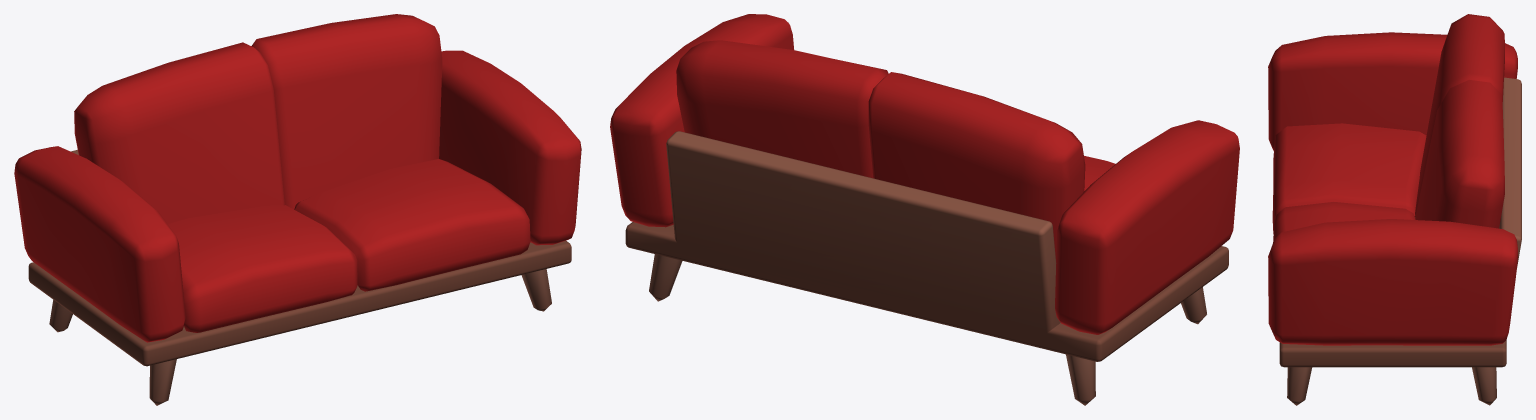
File: couch_05.glb
The picture shows the model from 3 angles, left to right: view 1: azimuth 30°, elevation 25°; view 2: azimuth 150°, elevation 25°; view 3: azimuth 270°, elevation 25°; orthographic projection. The views are drawn at different scales.
Parts seen in each view (by area): view 1: Couch_05; view 2: Couch_05; view 3: Couch_05.
Part boxes in pixels (x1,y1,x2,y2): Couch_05: (14,14,581,405); Couch_05: (610,14,1239,405); Couch_05: (1268,14,1521,405).
Size of the model in its own units: 1.72 by 0.892 by 0.8595.
2 materials, 1 textured.
